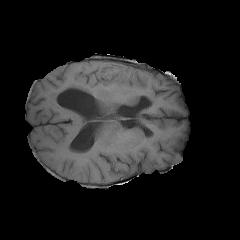glioma: (48, 63, 117, 106)
